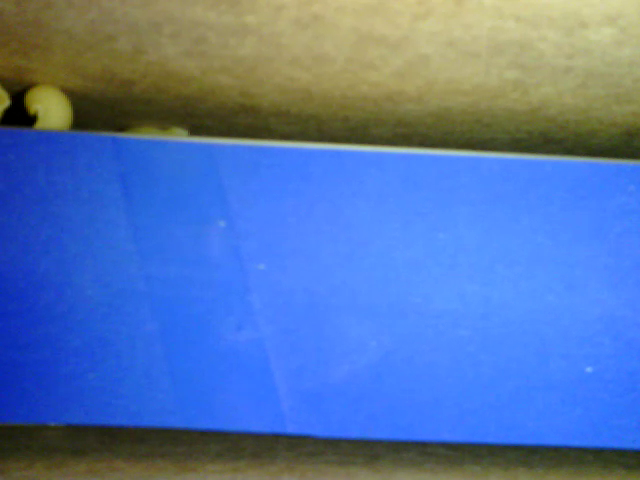shell: (24, 88, 77, 133)
